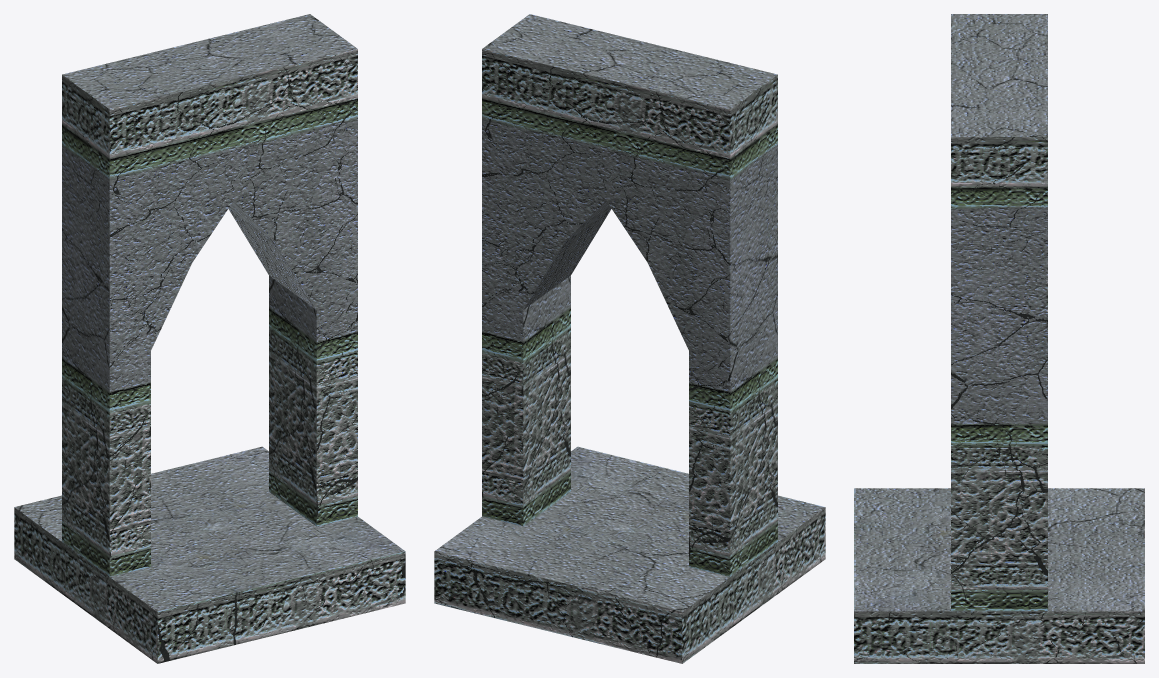
File: door_2.fbx
The picture shows the model from 3 angles, left to right: view 1: azimuth 30°, elevation 25°; view 2: azimuth 150°, elevation 25°; view 3: azimuth 270°, elevation 25°; orthographic projection.
Parts seen in each view (by area): view 1: door_2; view 2: door_2; view 3: door_2.
Part boxes in pixels (x1,y1,x2,y2): door_2: (14,14,405,663); door_2: (434,14,825,663); door_2: (854,14,1144,663).
Bounding box in the file's own units: 100 × 200 × 100.
